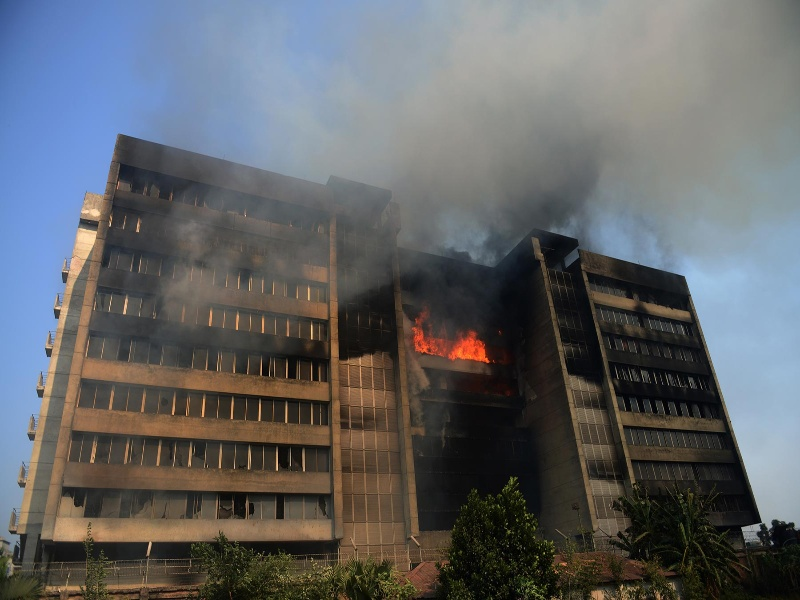smoke: (339, 7, 756, 232)
